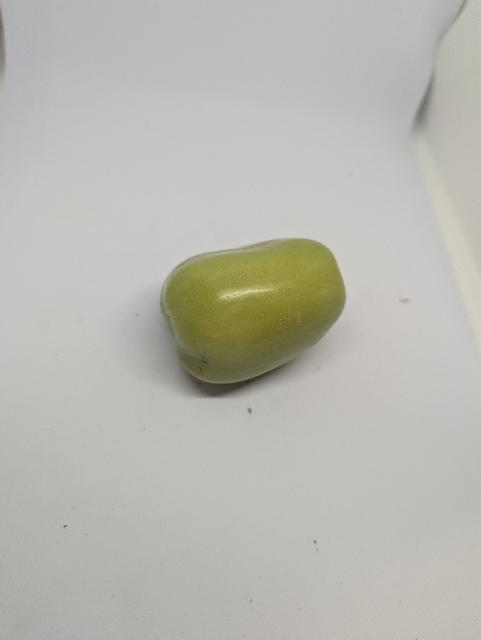green: (149, 213, 366, 408)
